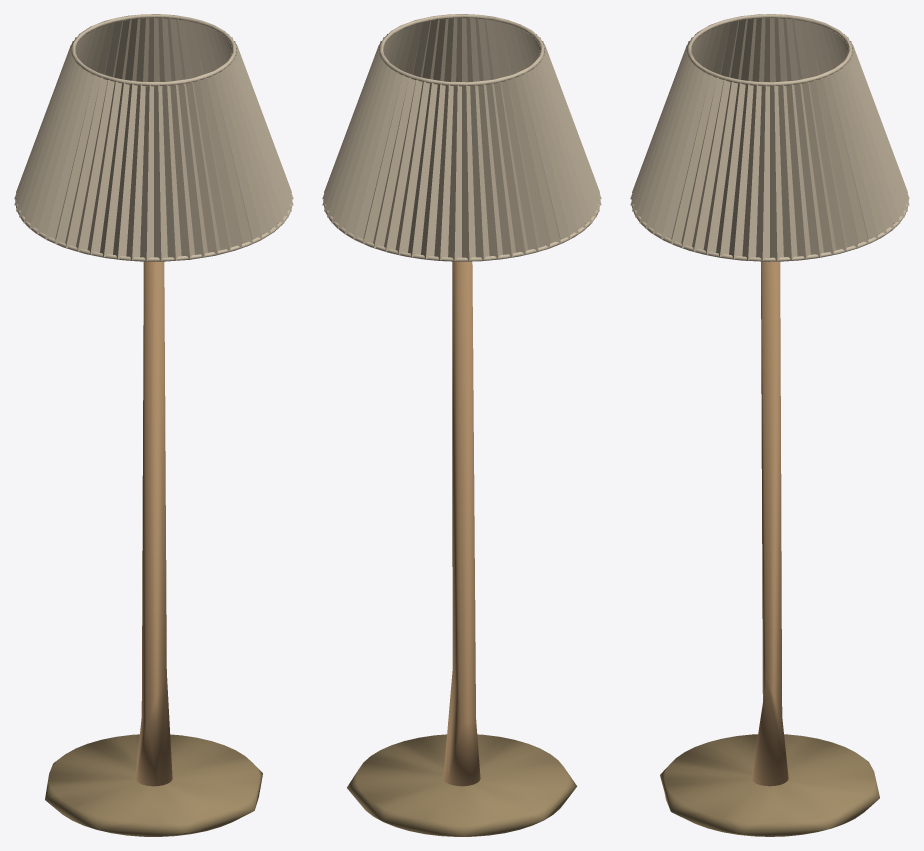
Rendered from reading-lamp-light.glb.
3 views of the same model, side by side, from view 1: azimuth 30°, elevation 25°; view 2: azimuth 150°, elevation 25°; view 3: azimuth 270°, elevation 25° (orthographic).
Parts seen in each view (by area): view 1: Mood linen oat, Mood aged brass, Mood oak board; view 2: Mood linen oat, Mood aged brass, Mood oak board; view 3: Mood linen oat, Mood aged brass, Mood oak board.
Boxes of the visible parts, x1,y1,x2,y2 form: Mood linen oat: (14,14,293,261); Mood aged brass: (45,734,262,836); Mood oak board: (135,261,172,786); Mood linen oat: (322,14,601,261); Mood aged brass: (347,734,577,836); Mood oak board: (443,261,480,786); Mood linen oat: (630,14,909,261); Mood aged brass: (660,734,879,836); Mood oak board: (751,261,788,786).
Size of the model in its own units: 0.4504 by 1.32 by 0.4504.
